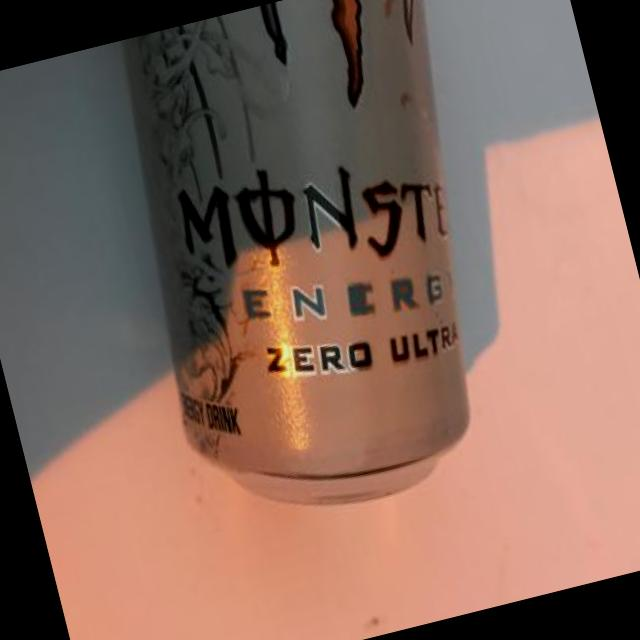kim_loai: (120, 0, 468, 504)
